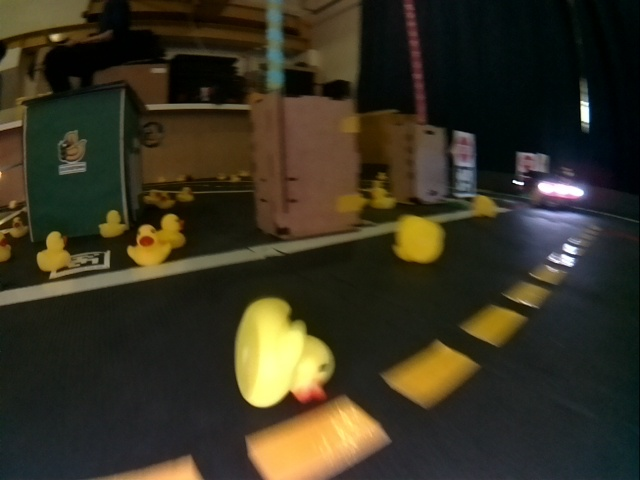Duckie: (238, 297, 331, 407), (394, 215, 445, 264), (128, 226, 169, 266), (37, 232, 70, 271), (159, 217, 185, 249), (99, 210, 125, 237), (371, 187, 396, 209), (476, 196, 495, 217)
Duckiebot: (534, 168, 586, 211)
QR code: (50, 253, 106, 278), (458, 168, 474, 195)
